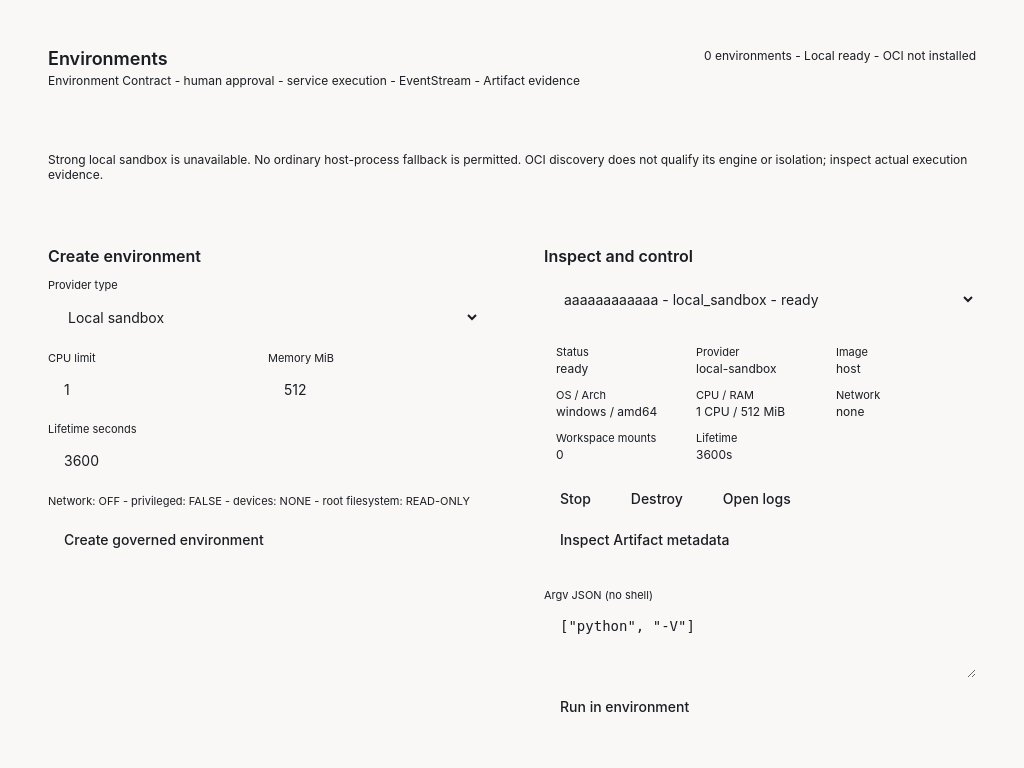
Test: environment inspector › inspects actual scoped registry metadata without claiming verification
Click the button "Inspect Artifact metadata". click: (645, 540)
box: [544, 523, 746, 556]
(page scrolled)
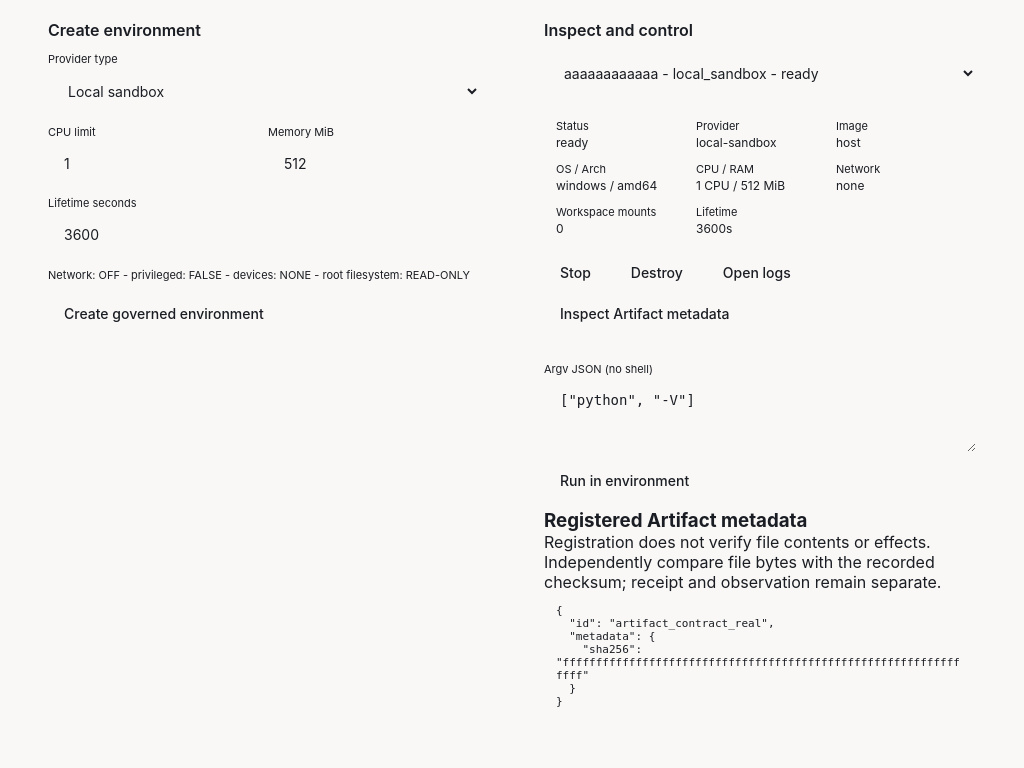
Expected: the element named "Environment Artifact metadata" shows "artifact_contract_real", [556, 604, 960, 708]
Expected: the element named "Environment Artifact metadata" shows "Registration does not verify", [544, 532, 941, 592]
